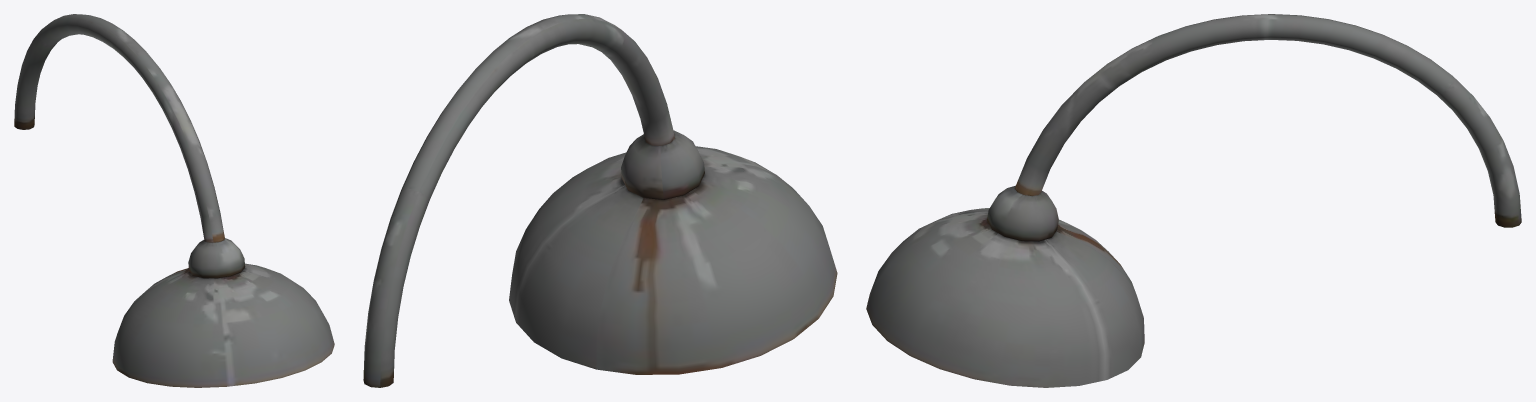
The picture shows the model from 3 angles, left to right: view 1: azimuth 30°, elevation 25°; view 2: azimuth 150°, elevation 25°; view 3: azimuth 270°, elevation 25°; orthographic projection. The views are drawn at different scales.
Parts seen in each view (by area): view 1: body0_model0_lod0_mesh0; view 2: body0_model0_lod0_mesh0; view 3: body0_model0_lod0_mesh0.
Part boxes in pixels (x1,y1,x2,y2): body0_model0_lod0_mesh0: (14, 14, 334, 387); body0_model0_lod0_mesh0: (363, 14, 837, 387); body0_model0_lod0_mesh0: (866, 14, 1521, 387).
Size of the model in its own units: 36.94 by 47.67 by 85.98.
Materials: 1 (1 with a texture image).
